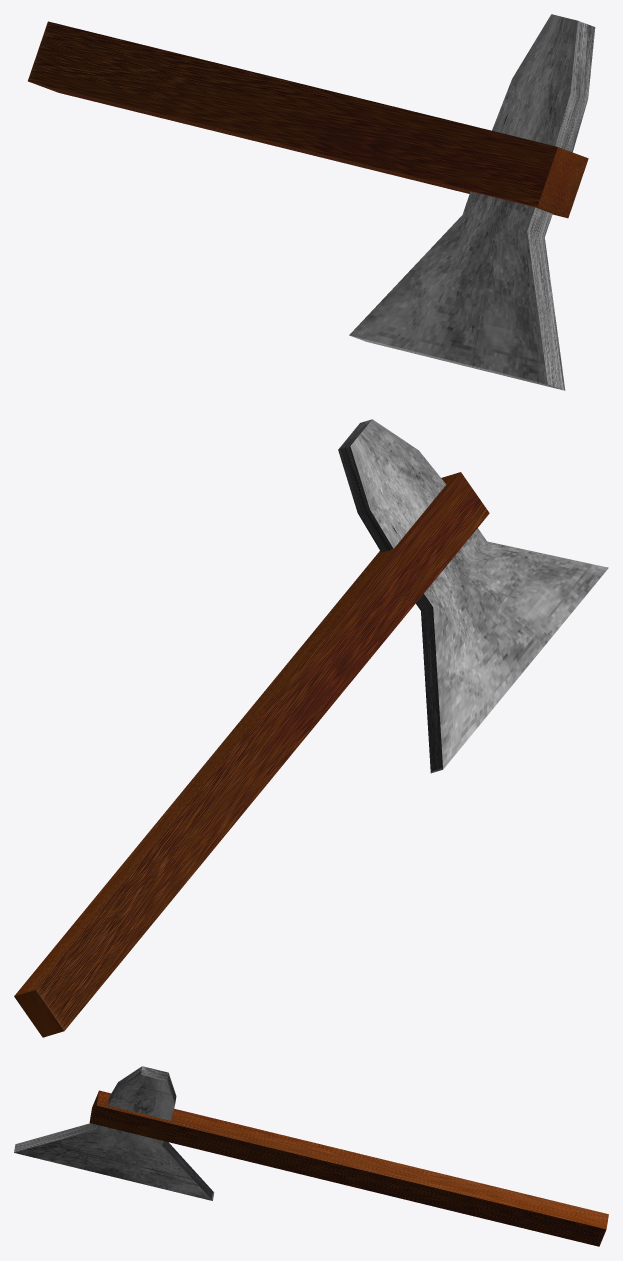
Rendered from _xe etx.fbx.
3 renders of one model, top to bottom at view 1: azimuth 30°, elevation 25°; view 2: azimuth 150°, elevation 25°; view 3: azimuth 270°, elevation 25°, orthographic. The views are drawn at different scales.
Visible parts, largest first — view 1: polySurface10; view 2: polySurface10; view 3: polySurface10.
Boxes of the visible parts, bbox=[...] form: polySurface10: bbox=[28, 14, 595, 390]; polySurface10: bbox=[14, 419, 608, 1037]; polySurface10: bbox=[14, 1066, 608, 1246].
Bounding box in the file's own units: 0.7393 × 1.6 × 4.41.
